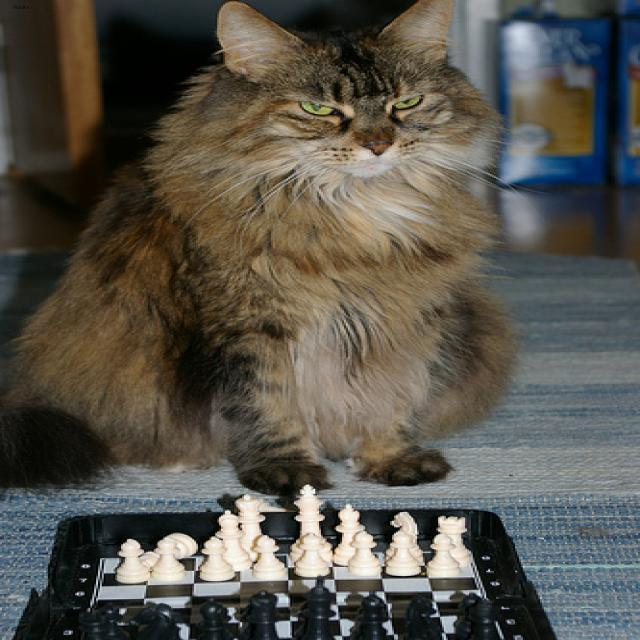Maine_Coon: (213, 0, 449, 175)
